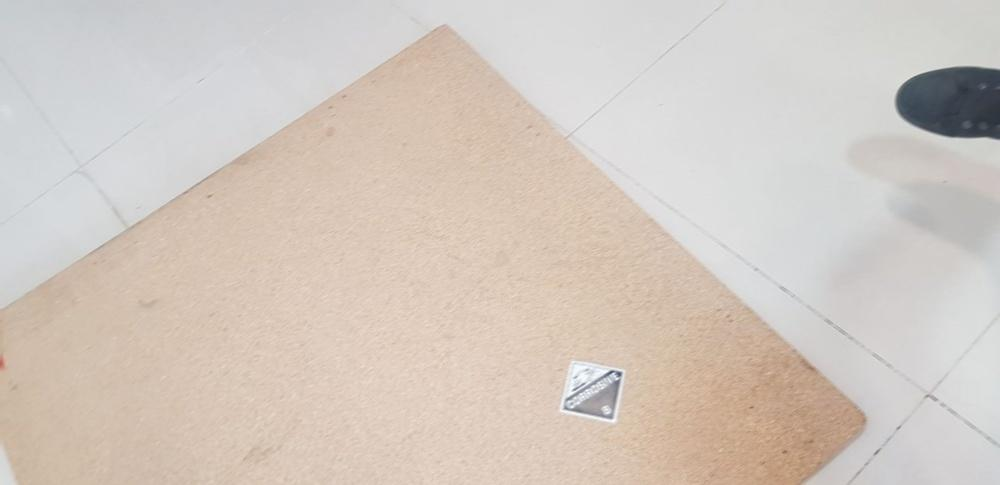corrosive: (560, 359, 625, 423)
